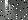person: (7, 2, 14, 15)
